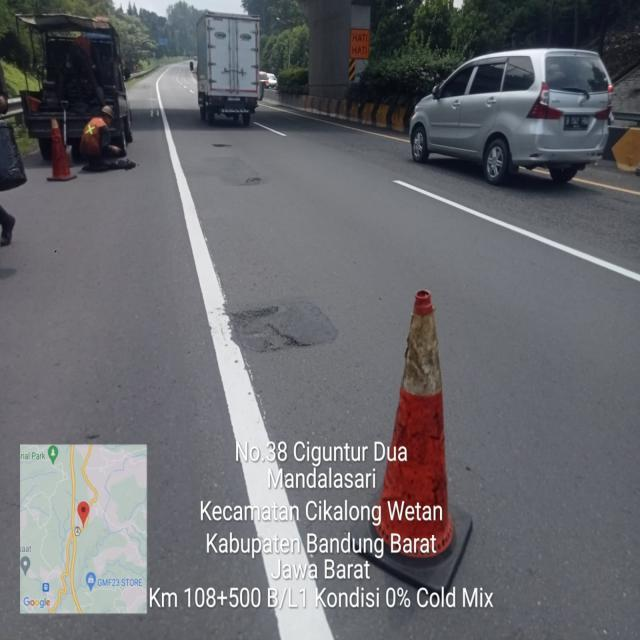Buraco: (222, 304, 314, 354), (241, 176, 263, 187), (211, 142, 234, 149)
